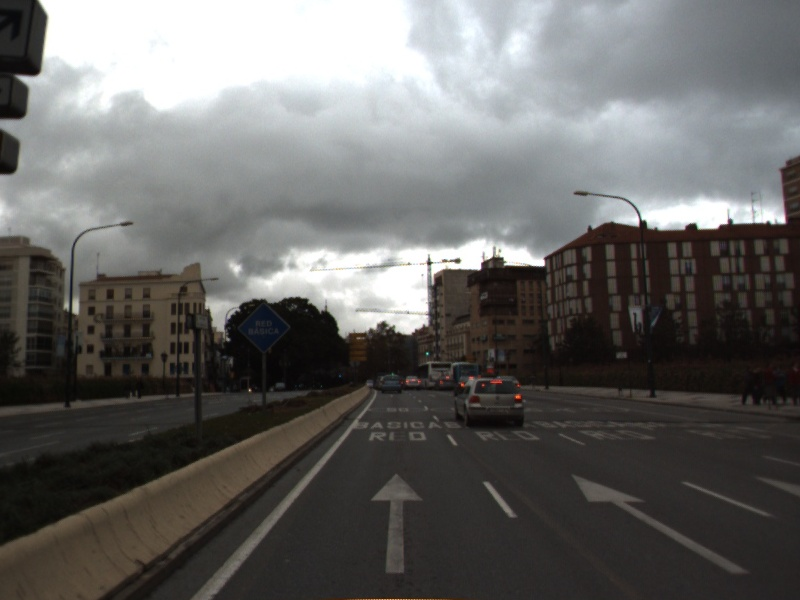STRAIGHT: (568, 471, 756, 578), (366, 470, 428, 576)
